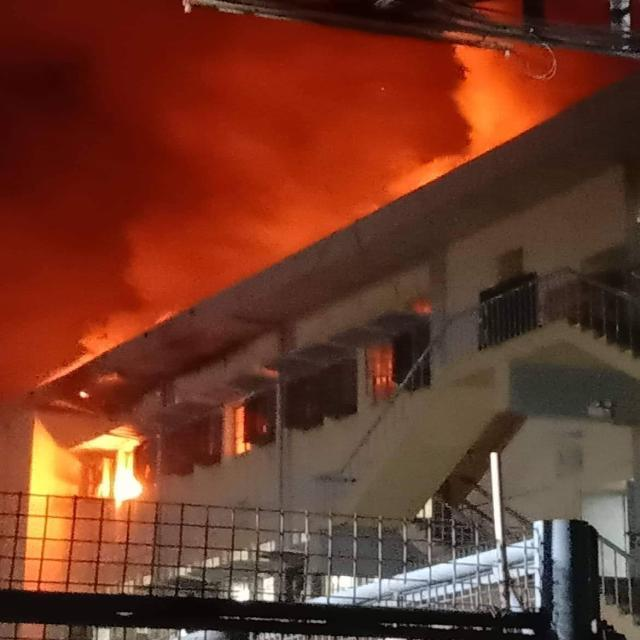Fire: (72, 440, 142, 499)
Smoke: (36, 18, 425, 214), (14, 188, 363, 322), (438, 35, 546, 130)
